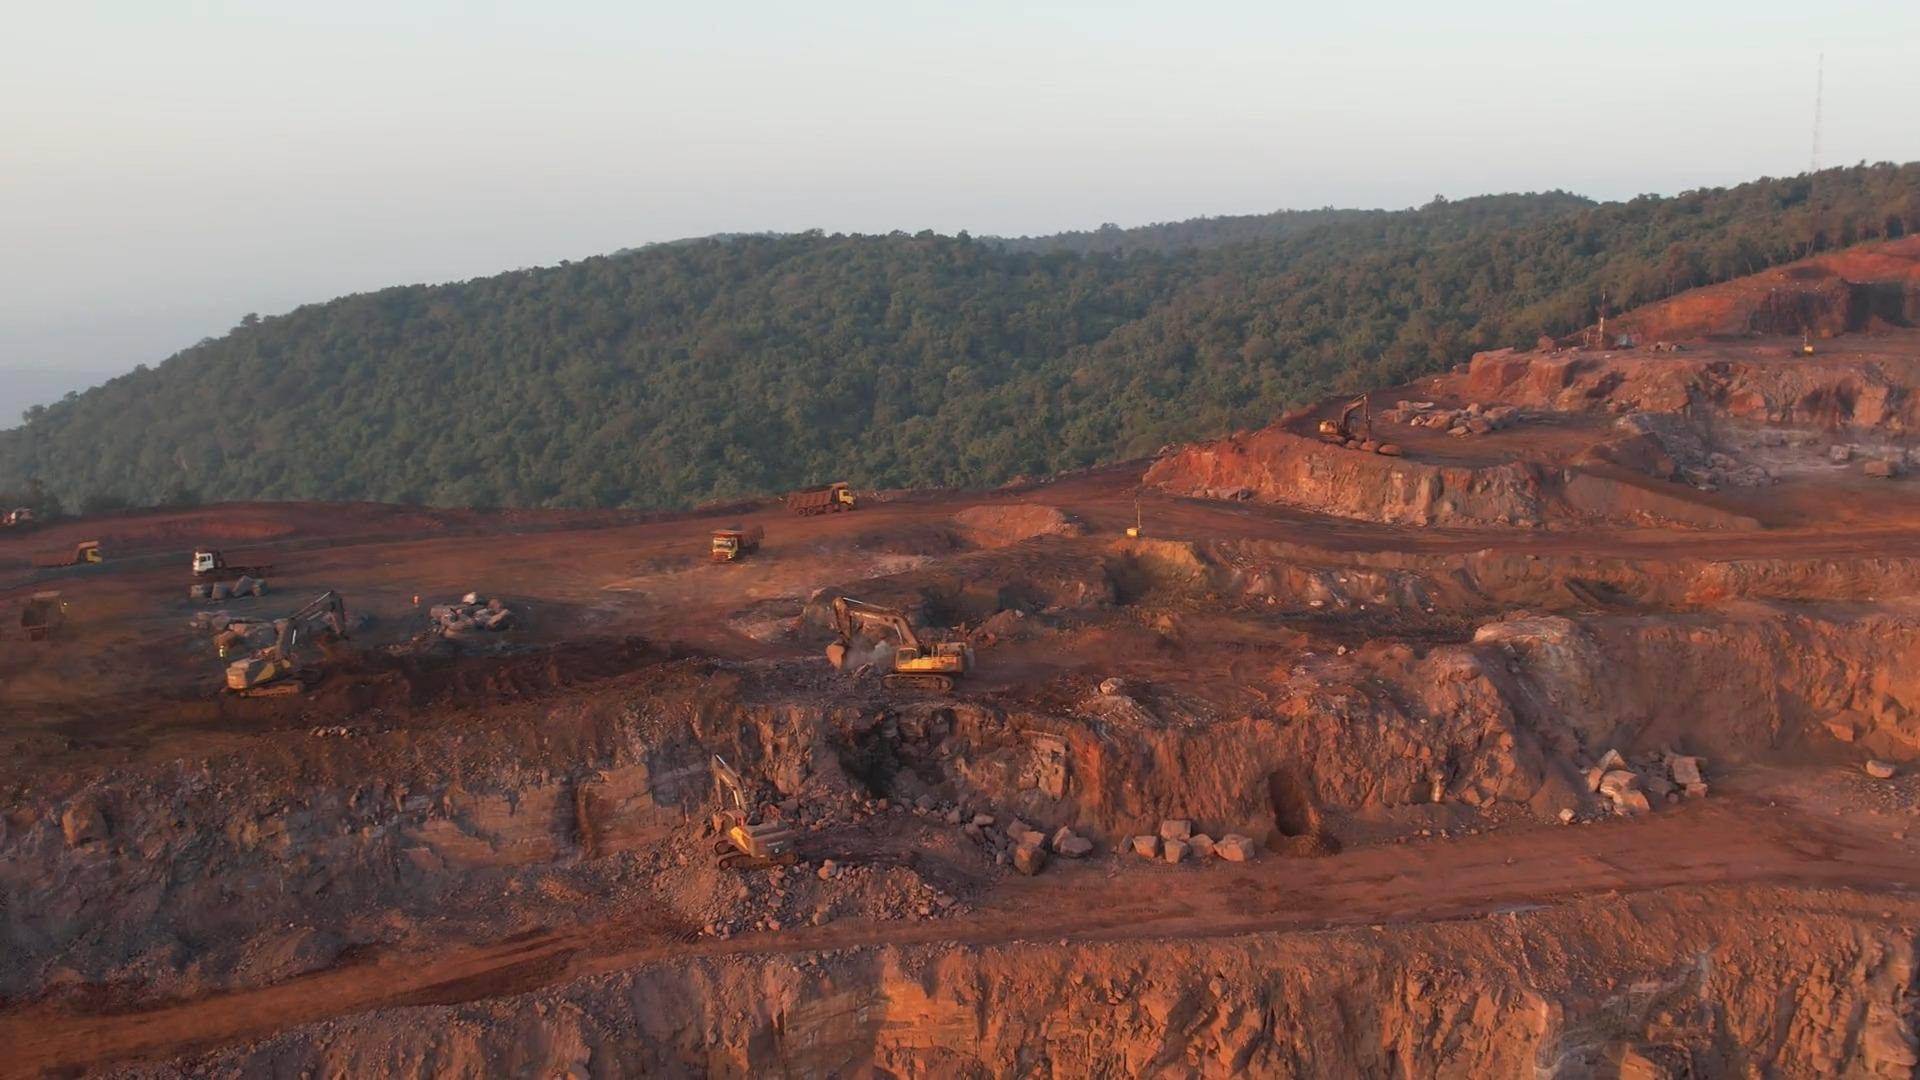excavator: (831, 592, 963, 690), (227, 596, 352, 694), (708, 750, 802, 868), (1319, 393, 1375, 446)
